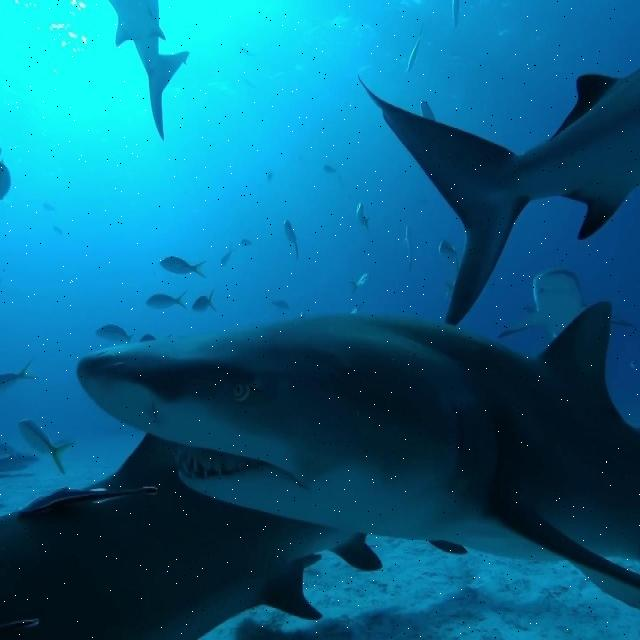fish: (77, 299, 639, 609), (0, 436, 383, 639), (357, 68, 638, 322), (109, 0, 192, 138), (19, 420, 74, 479), (161, 256, 210, 280), (145, 290, 188, 310)
